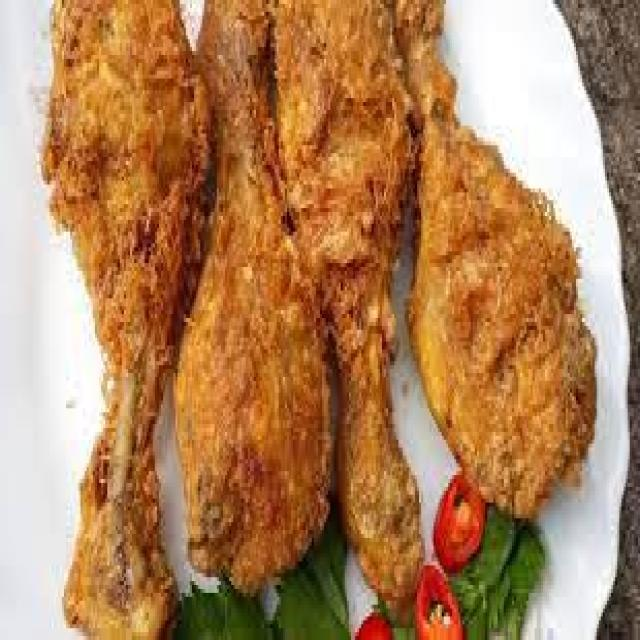Frango: (41, 0, 215, 632), (396, 0, 597, 499), (173, 0, 334, 593), (279, 0, 427, 597)
